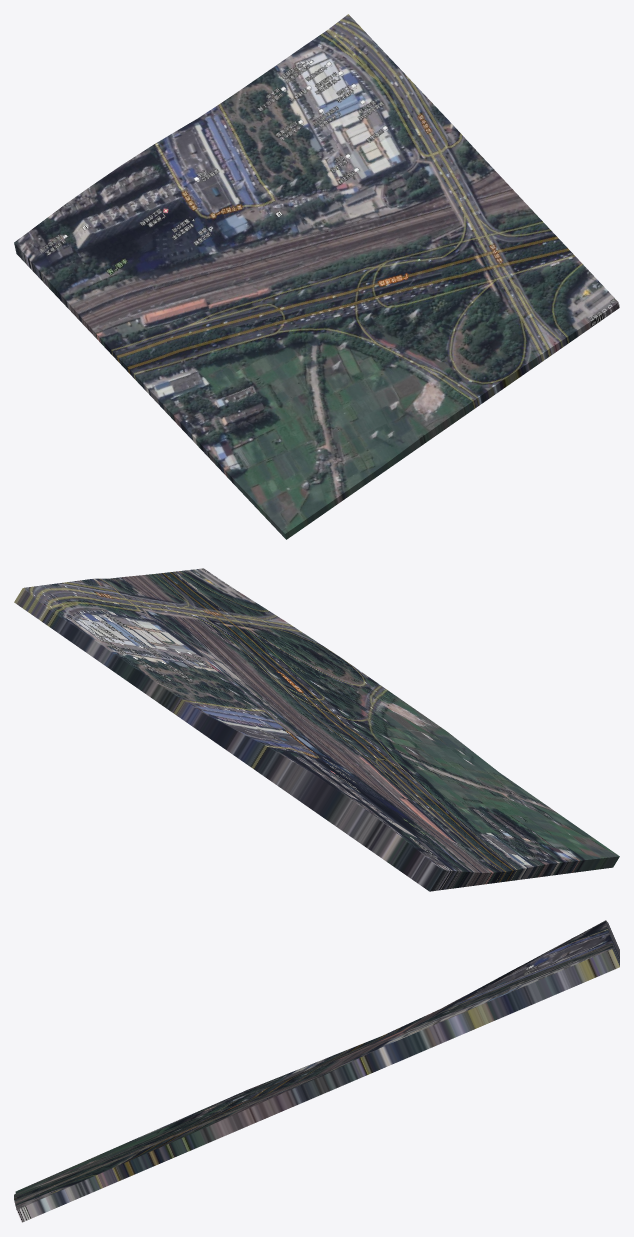
3 views of the same model, one above another, from view 1: azimuth 30°, elevation 25°; view 2: azimuth 150°, elevation 25°; view 3: azimuth 270°, elevation 25° (orthographic). The views are drawn at different scales.
Visible parts, largest first — view 1: 0_7_32; view 2: 0_7_32; view 3: 0_7_32.
Part boxes in pixels (x1,y1,x2,y2): 0_7_32: (14, 14, 619, 539); 0_7_32: (14, 568, 619, 891); 0_7_32: (14, 920, 619, 1222).
Bounding box in the file's own units: 602 × 444 × 549.
1 material, 1 textured.
